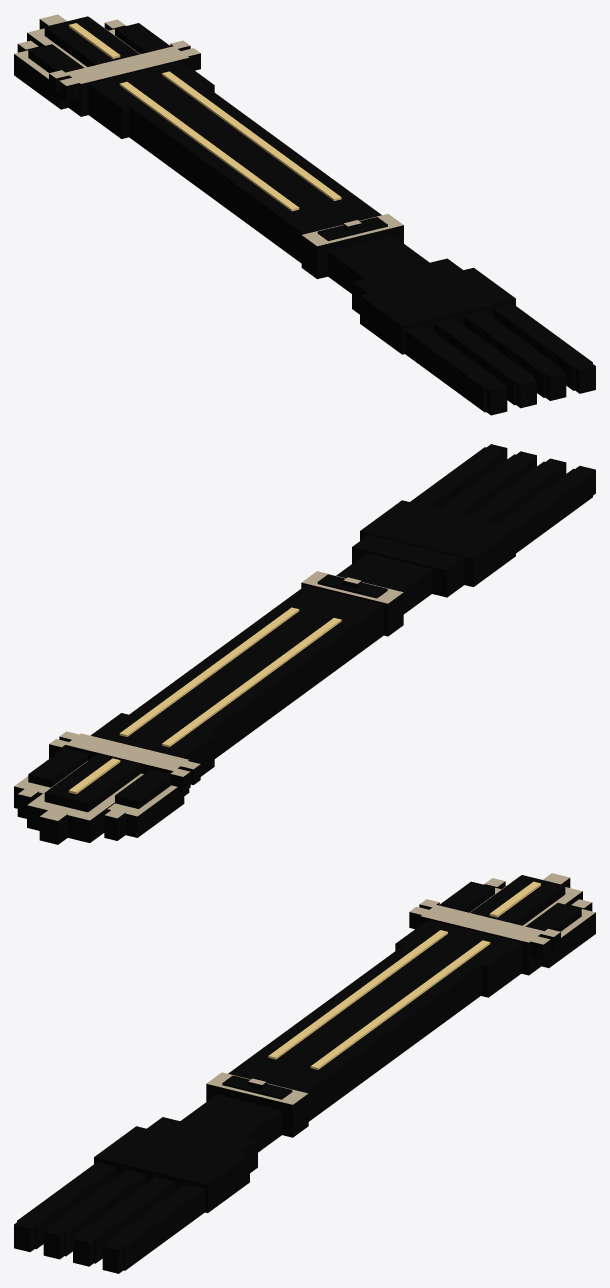
File: tea_fork.obj
3 views of the same model, one above another, from view 1: azimuth 30°, elevation 25°; view 2: azimuth 150°, elevation 25°; view 3: azimuth 330°, elevation 25° (orthographic).
Size of the model in its own units: 0.2227 by 0.0629 by 1.42.
